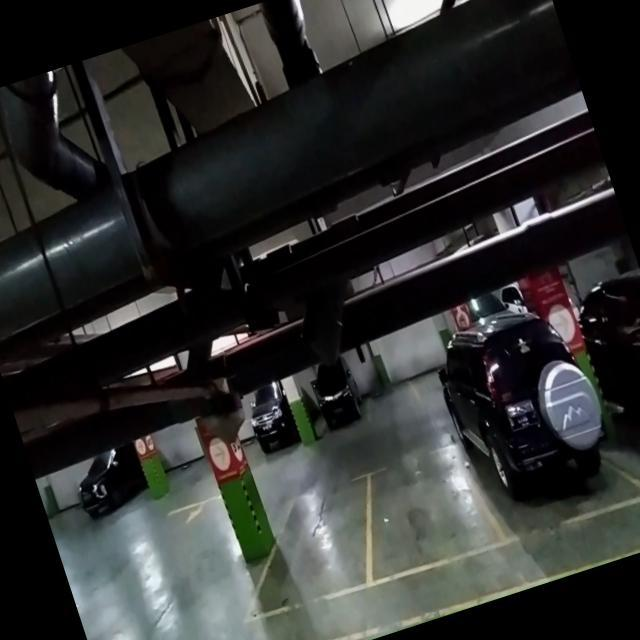empty: (357, 436, 500, 582), (257, 471, 393, 615)
occupied: (446, 354, 636, 547)
